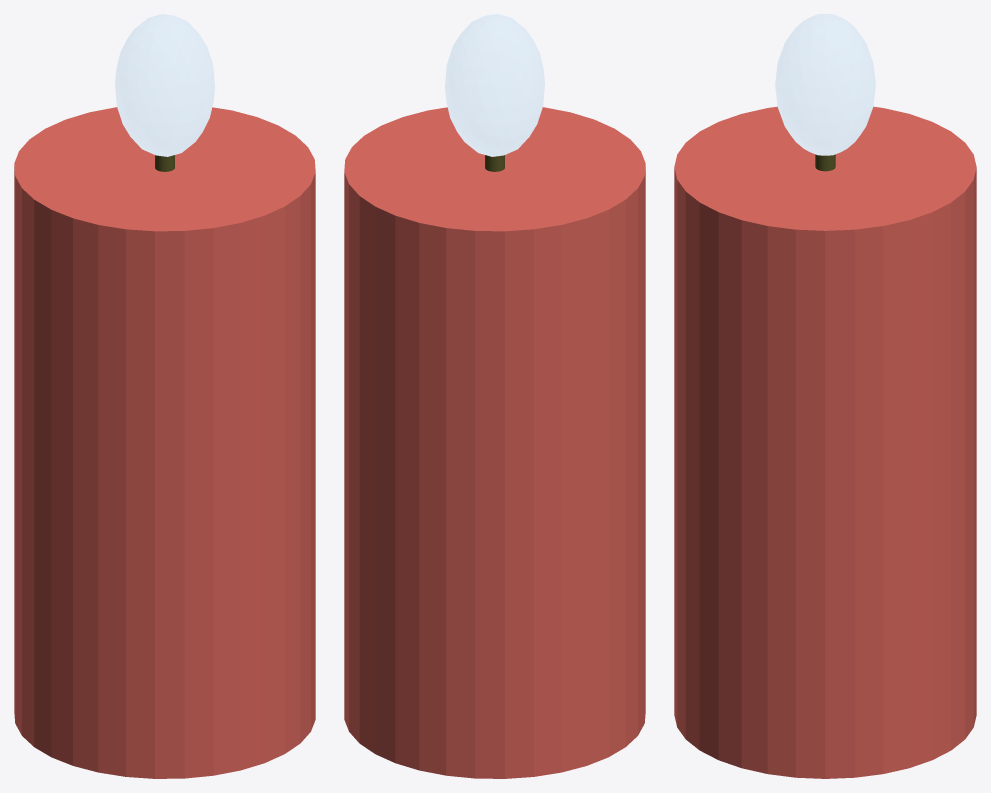
3 renders of one model, left to right at view 1: azimuth 30°, elevation 25°; view 2: azimuth 150°, elevation 25°; view 3: azimuth 270°, elevation 25°, orthographic.
Visible parts, largest first — view 1: Candle_Body, Flame; view 2: Candle_Body, Flame; view 3: Candle_Body, Flame.
Part boxes in pixels (left/top/right/bottom): Candle_Body: left=14, top=107, right=315, bottom=778; Flame: left=115, top=14, right=214, bottom=156; Candle_Body: left=344, top=107, right=645, bottom=778; Flame: left=445, top=14, right=544, bottom=156; Candle_Body: left=674, top=106, right=976, bottom=778; Flame: left=775, top=14, right=875, bottom=155.
Size of what is drawn, in the model's own units: 0.3 by 0.765 by 0.3.
